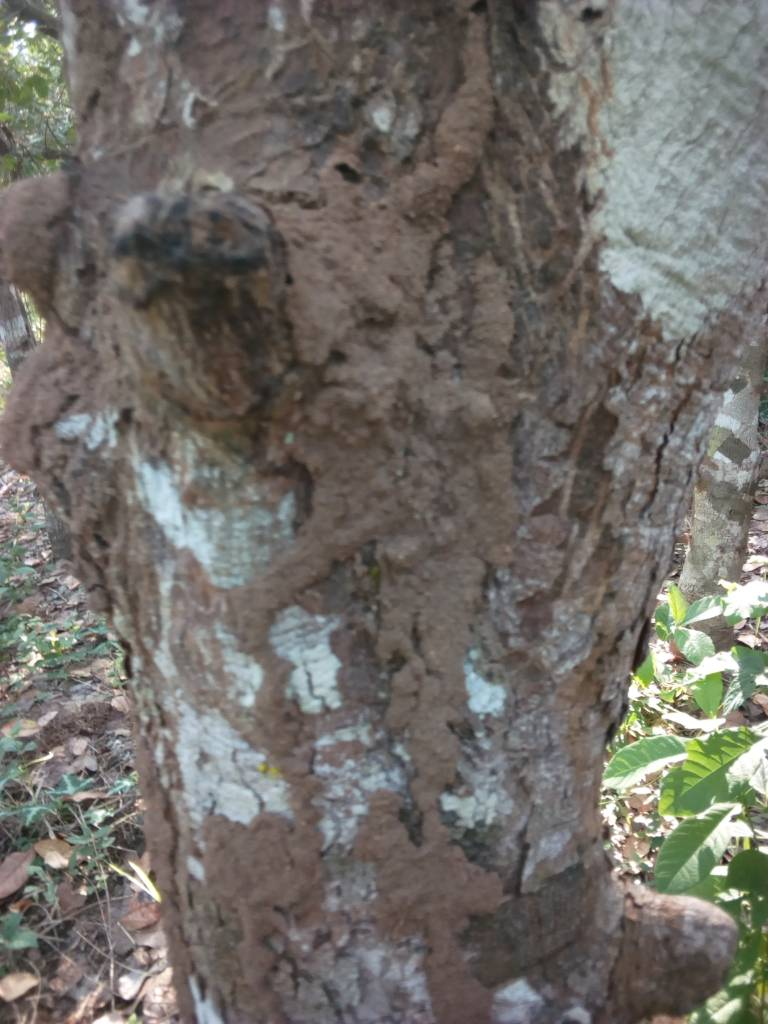Termites: (299, 171, 541, 1022), (135, 475, 291, 1011), (96, 33, 515, 180)
